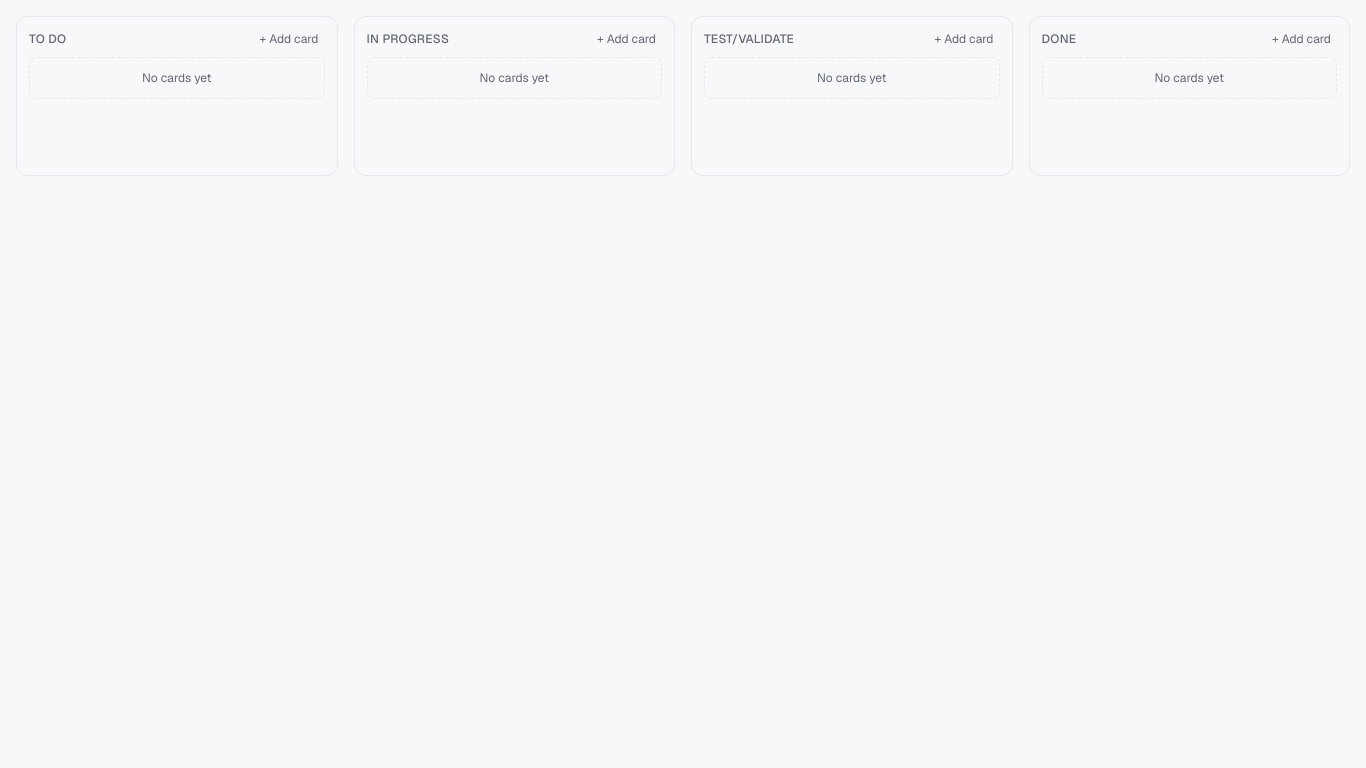
Test: Board › creates a label from within the card modal and makes it selectable
This screenshot has width=1366, height=768.
Step 1. Click the button with aria-label "add card to to do" → (289, 39), box [254,29,324,49]
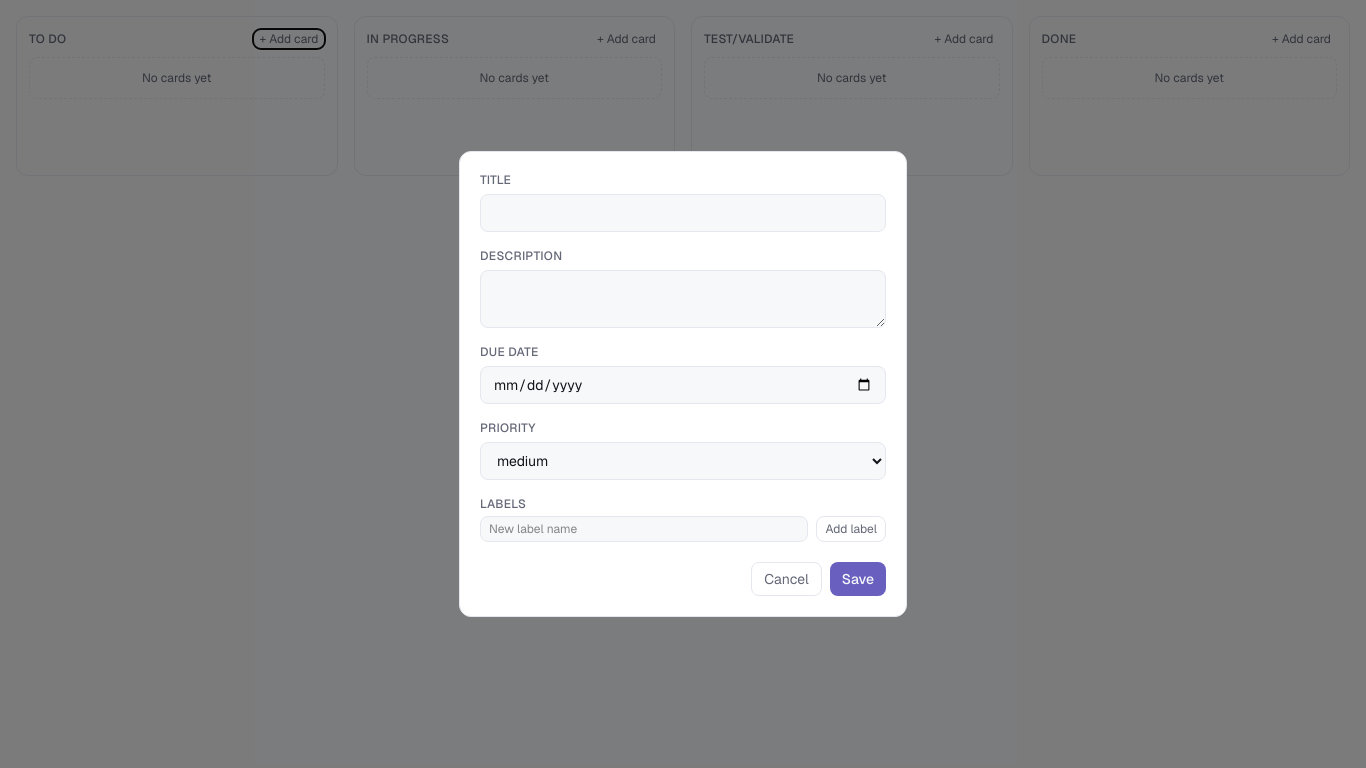
Step 2. Type "Urgent" into the field labelled "New label name" → (644, 529), box [480,516,808,542]
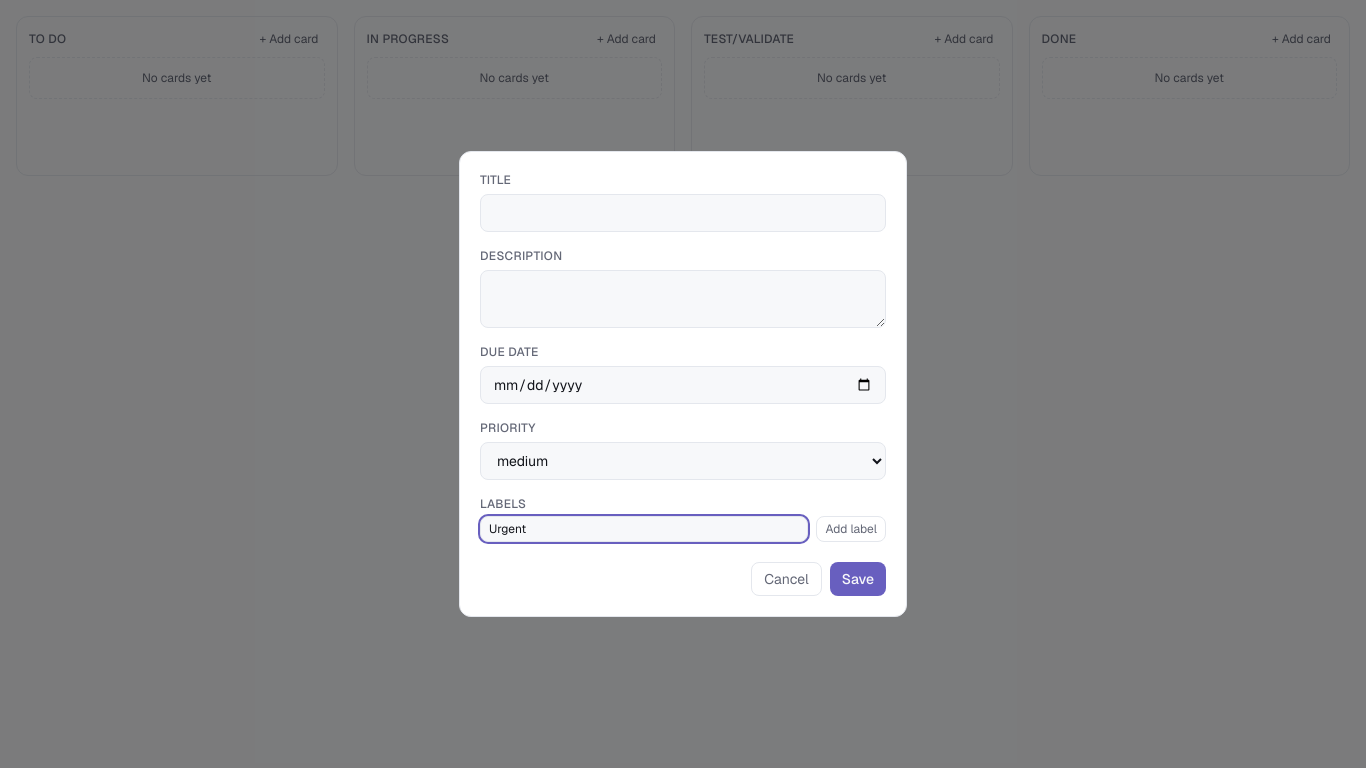
Step 3. Click the button "Add label" → (851, 529), box [816,516,886,542]
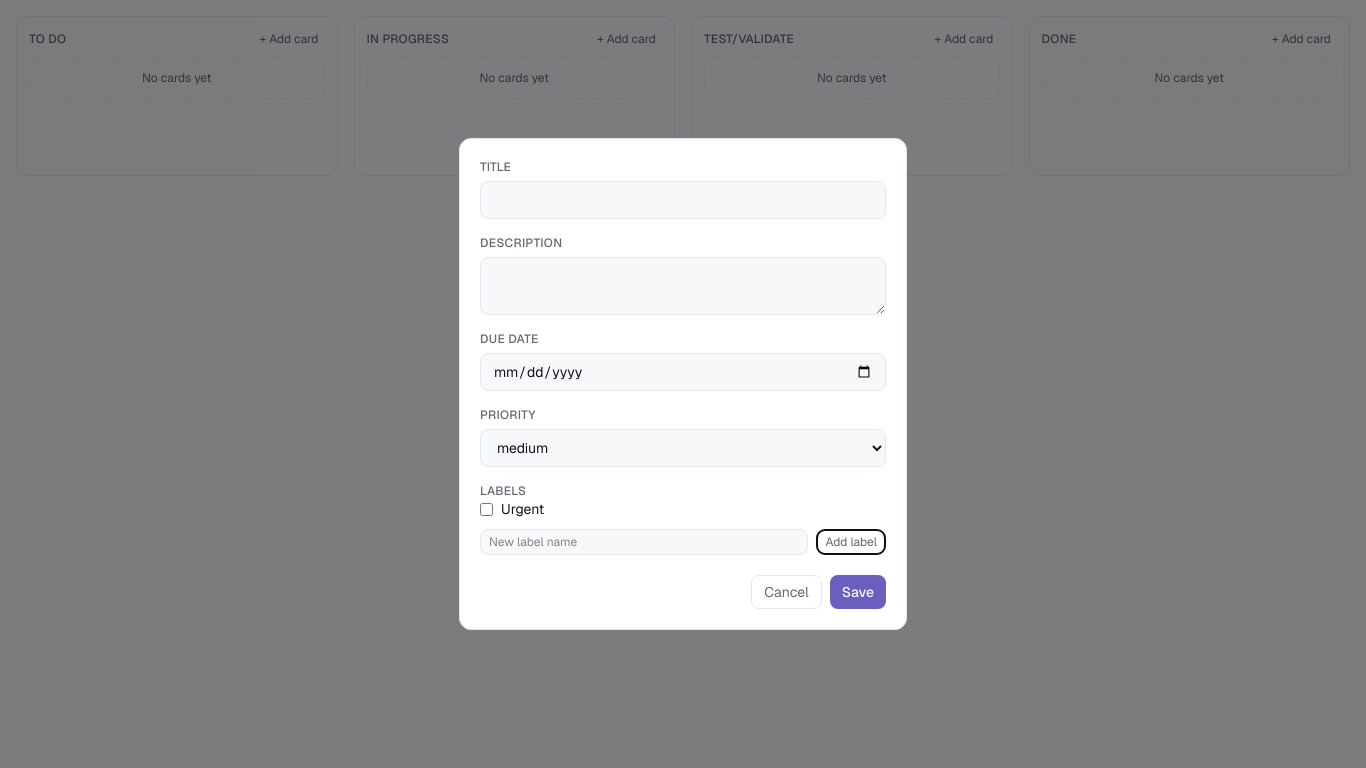
expect the checkbox labelled "Urgent" is shown: met, box [480,502,493,516]
